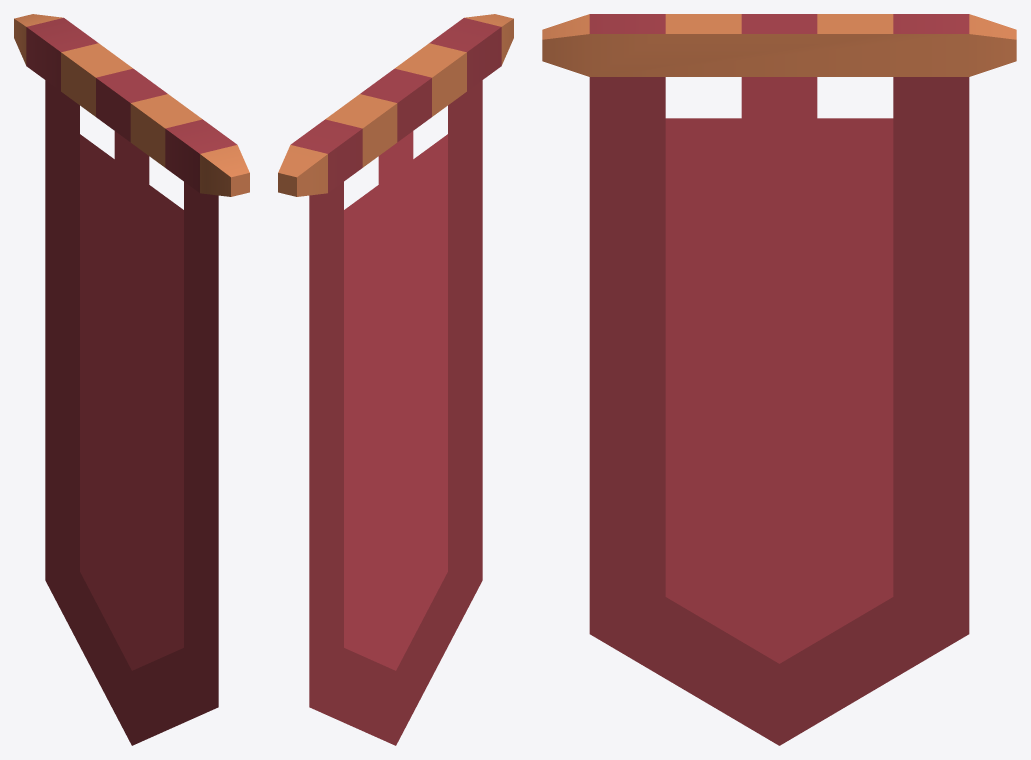
File: bannerRed.fbx
The picture shows the model from 3 angles, left to right: view 1: azimuth 30°, elevation 25°; view 2: azimuth 150°, elevation 25°; view 3: azimuth 270°, elevation 25°; orthographic projection. The views are drawn at different scales.
Parts seen in each view (by area): view 1: bannerRed; view 2: bannerRed; view 3: bannerRed.
Part boxes in pixels (x1,y1,x2,y2): bannerRed: (14,14,249,745); bannerRed: (278,14,513,745); bannerRed: (542,14,1016,745).
Size of the model in its own units: 0.5 by 8.39 by 5.
